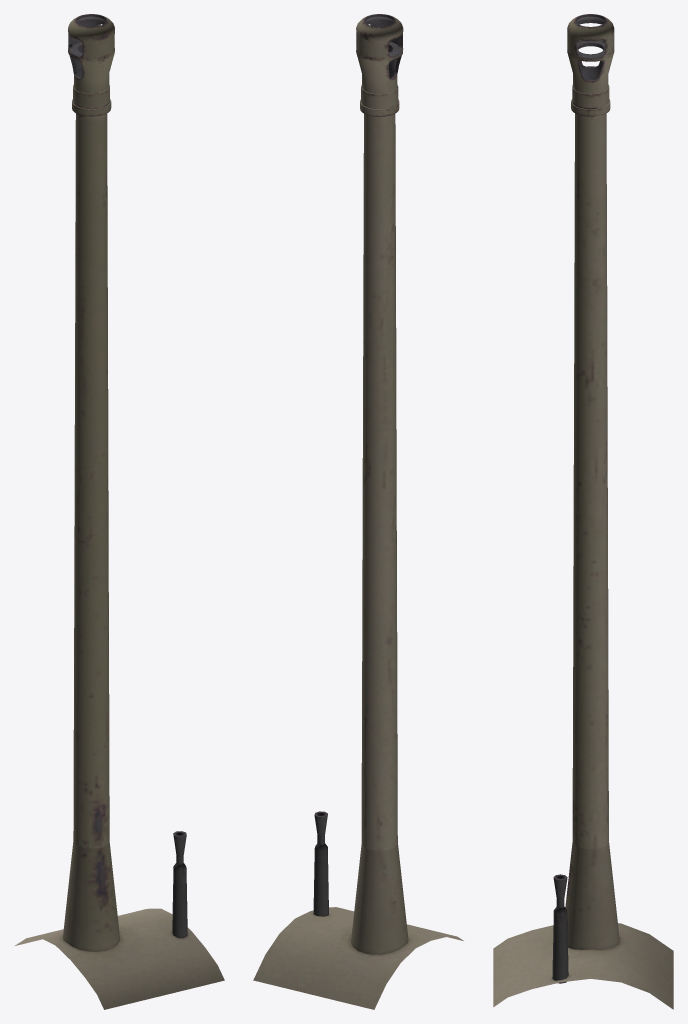
File: Gun_01.glb
3 renders of one model, left to right at view 1: azimuth 30°, elevation 25°; view 2: azimuth 150°, elevation 25°; view 3: azimuth 270°, elevation 25°, orthographic.
Visible parts, largest first — view 1: set_0_group_0; view 2: set_0_group_0; view 3: set_0_group_0.
Part boxes in pixels (left/top/right/bottom): set_0_group_0: left=15, top=14, right=224, bottom=1009; set_0_group_0: left=253, top=14, right=463, bottom=1009; set_0_group_0: left=493, top=14, right=673, bottom=1009.
Size of the model in its own units: 0.4956 by 3.71 by 0.6412.
Materials: 1 (1 with a texture image).
